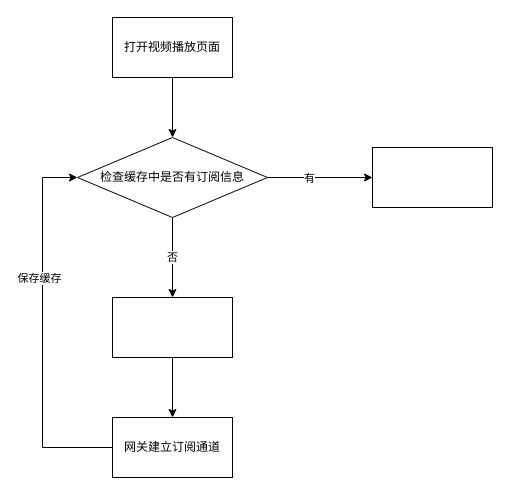
Some shapes in this 510 by 495 pixel diagram are drawn without their labels. Here are the shapes that lost their labels. From the top down, the centre of each, then its label:
the point at 432,177: 返回订阅相关信息
the point at 172,327: 发送订阅命令
